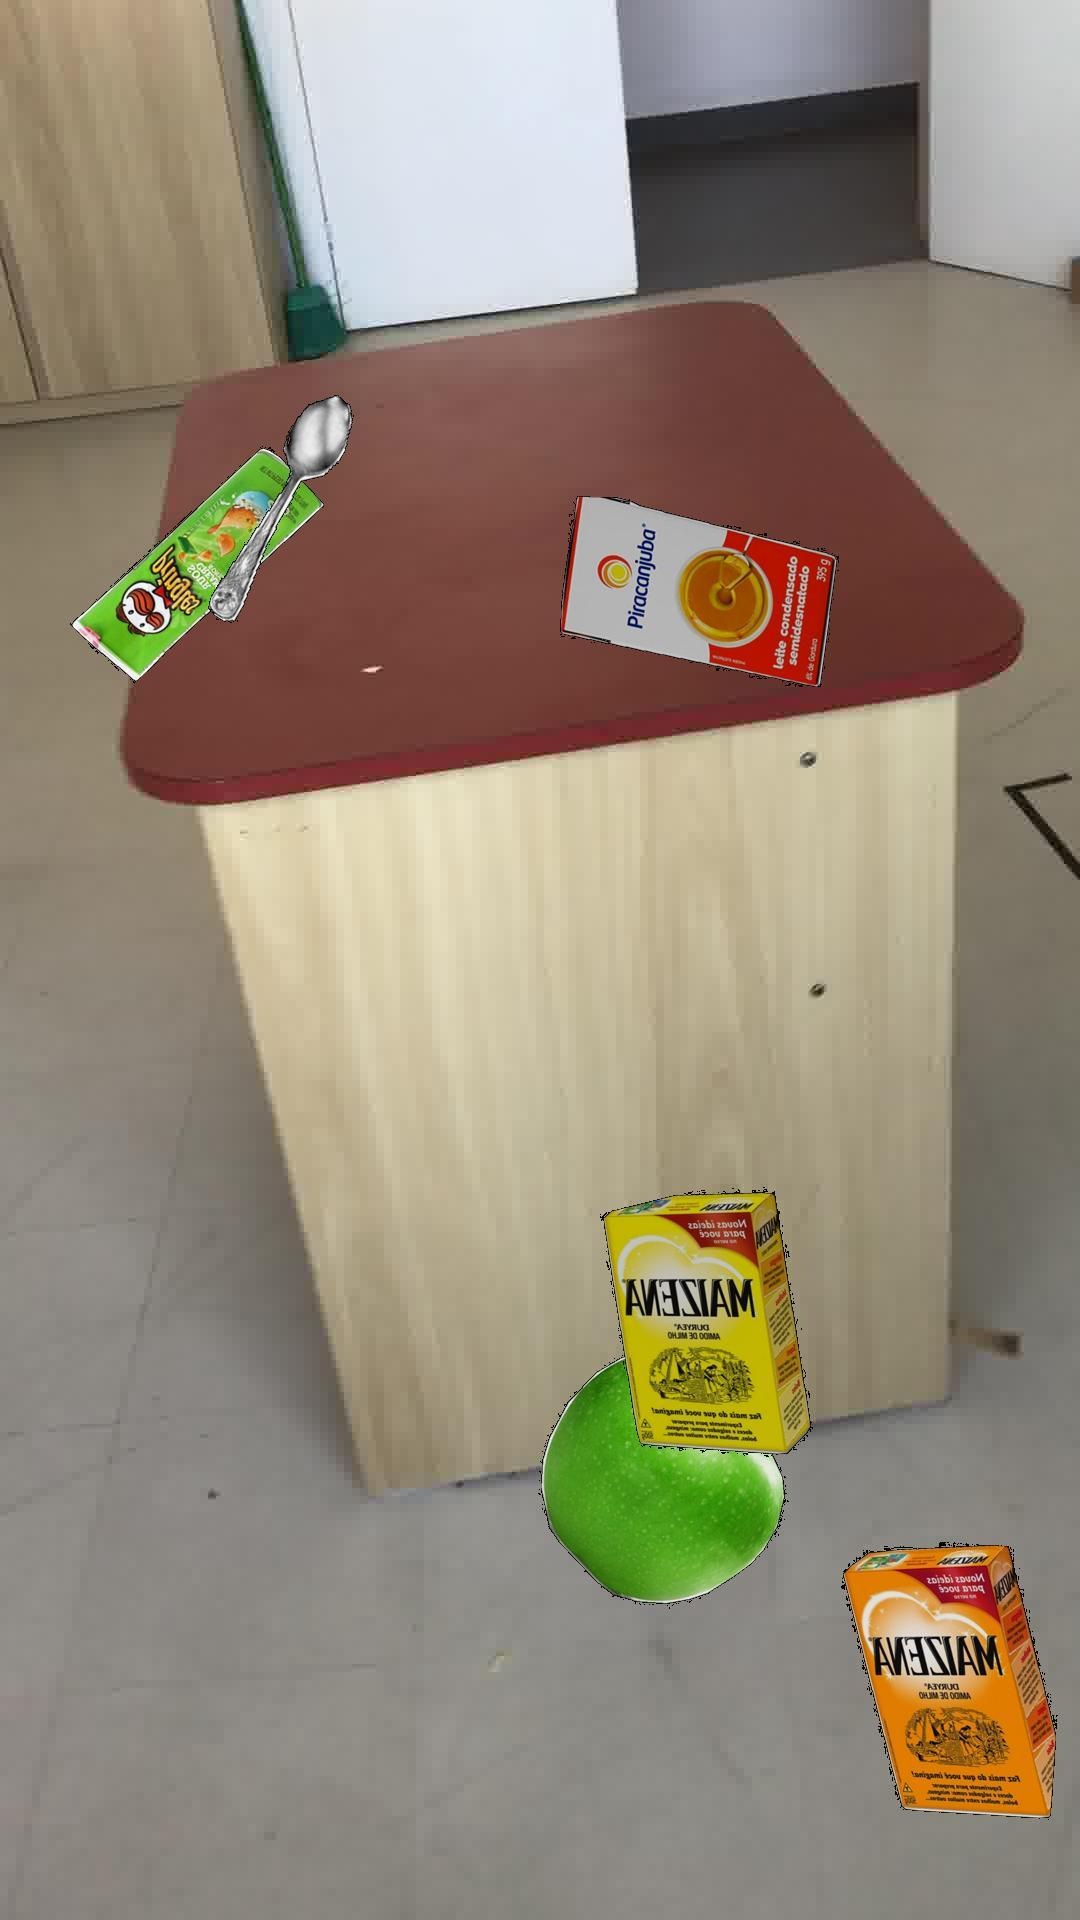green apple: (539, 1356, 786, 1602)
pringles: (69, 447, 323, 680)
spoon: (207, 393, 352, 621)
